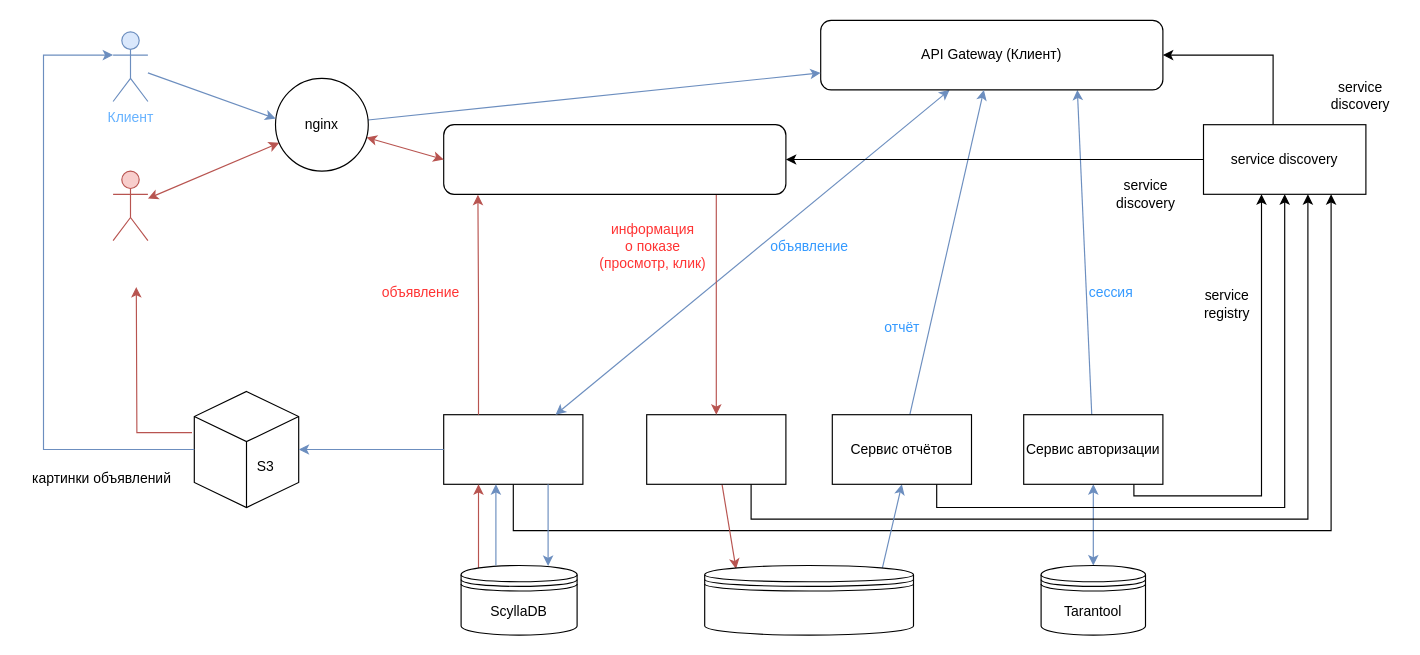
Image size: 1420x655. Some labels were removed from this diagram. Each missing label, with the centre of its shape:
API Gateway (Посетитель): point 614,159
ClickHouse: point 808,599
Посетитель: point 130,205
Сервис подбора объявлений: point 513,449
Сервис сбора статистики: point 716,449
